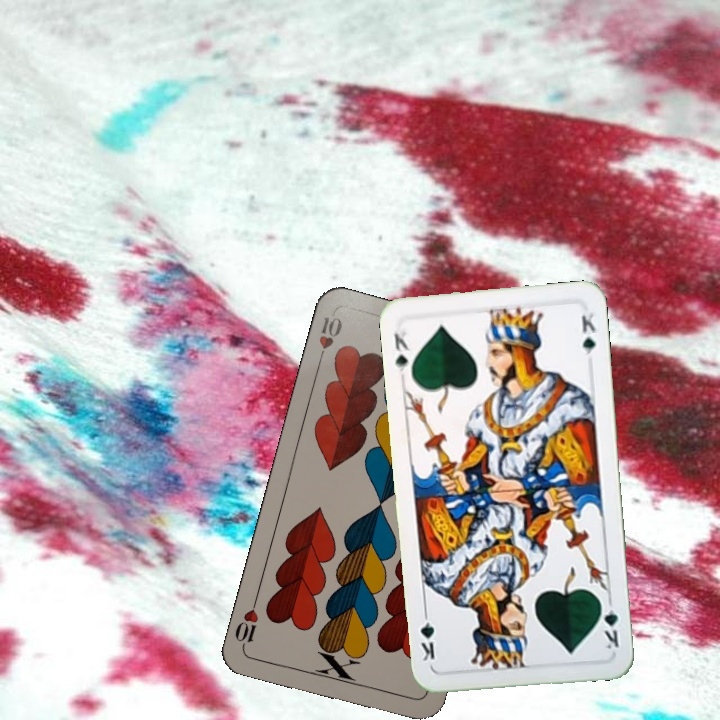GK: (596, 594, 621, 652), (390, 327, 412, 375)
H10: (313, 312, 345, 368)
